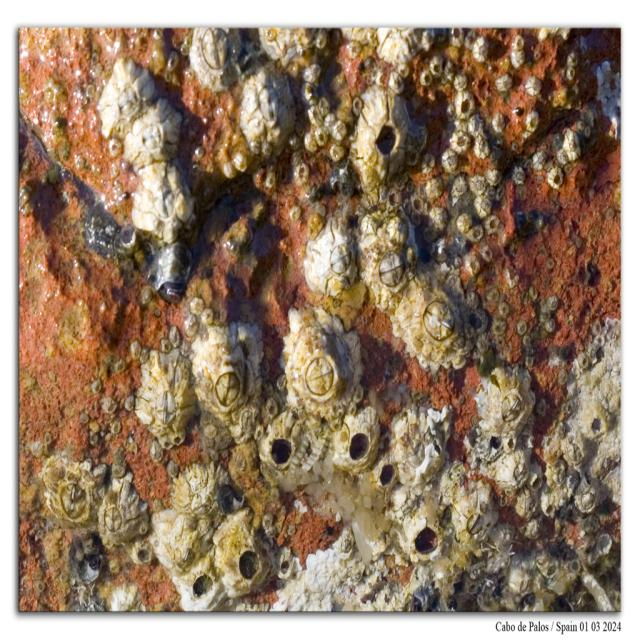barnacles: (393, 271, 478, 379), (279, 314, 365, 416), (190, 314, 266, 419), (351, 82, 413, 191), (360, 204, 420, 316), (136, 355, 199, 455), (242, 64, 296, 160), (468, 369, 538, 439), (40, 460, 98, 542), (128, 168, 194, 238), (214, 514, 272, 591), (303, 218, 358, 298), (96, 477, 150, 550), (120, 101, 180, 166), (185, 27, 243, 89), (396, 503, 447, 573), (97, 57, 148, 125), (258, 411, 307, 475), (334, 410, 378, 481), (154, 519, 201, 575), (182, 468, 225, 524), (182, 561, 226, 610), (578, 388, 611, 451), (370, 450, 401, 505)
